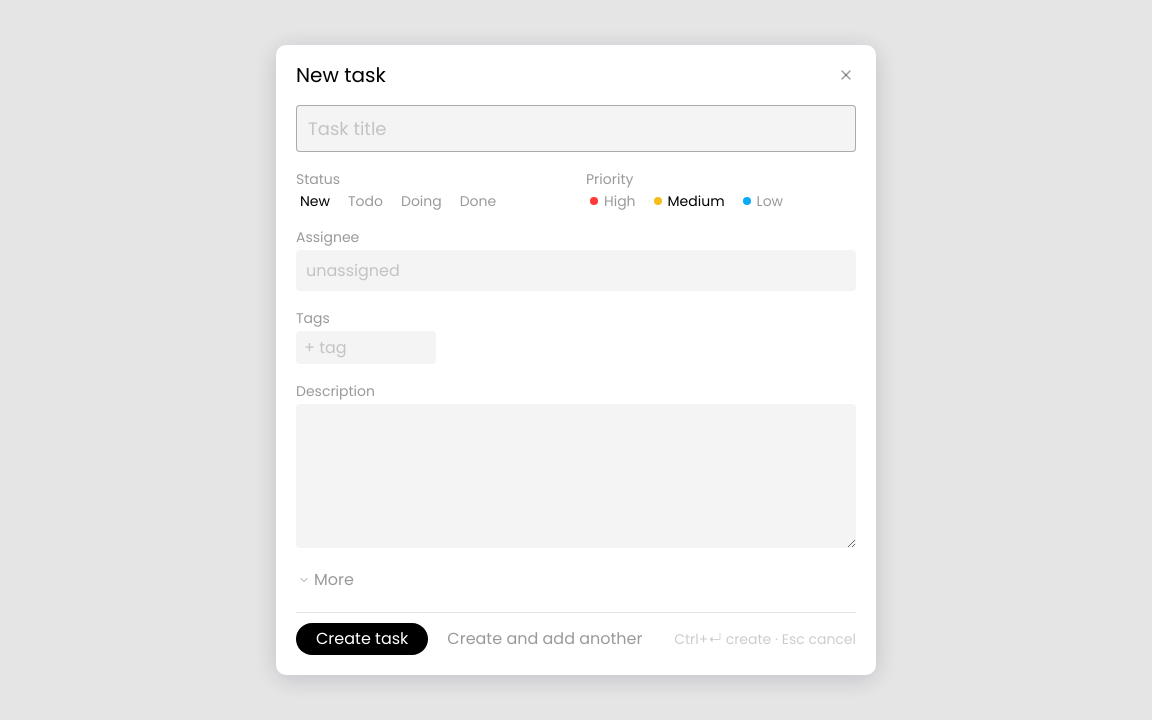
Test: TaskForm › rejects an empty title without creating anything
What coordinates should you click on to do the following:
click the button "Create task"
I would click on:
 (362, 639)
Its box is [296,623,428,655].
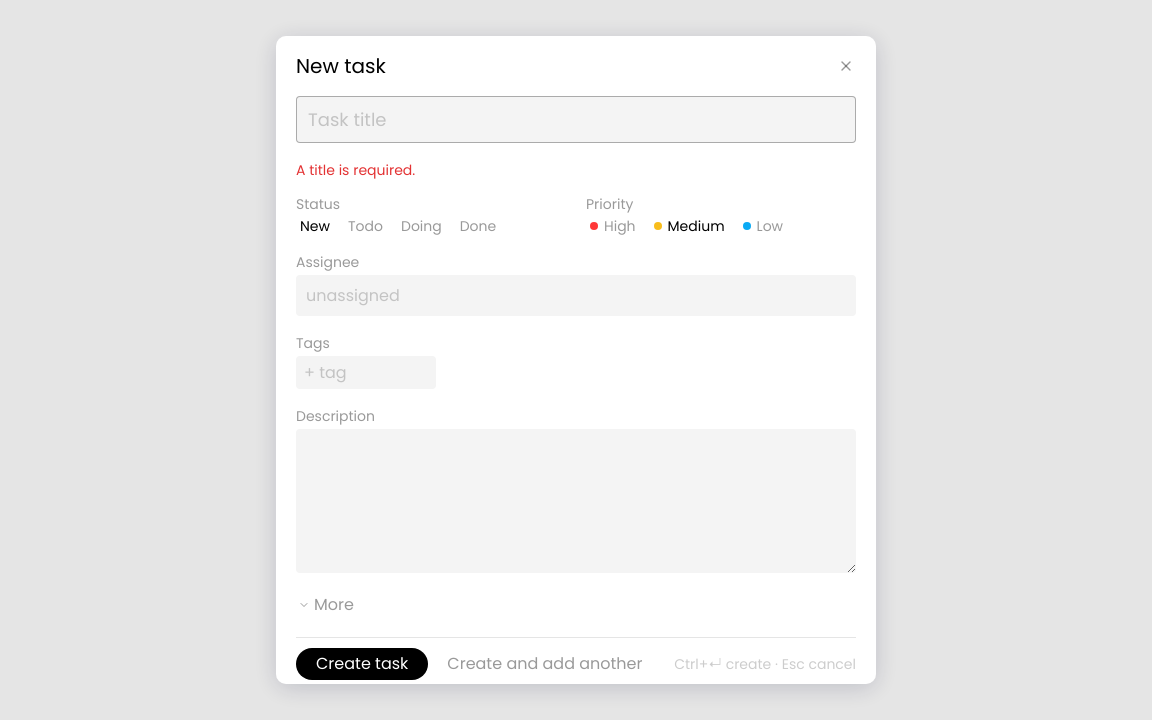
Expected: the text "A title is required." is shown, [296,160,415,180]
